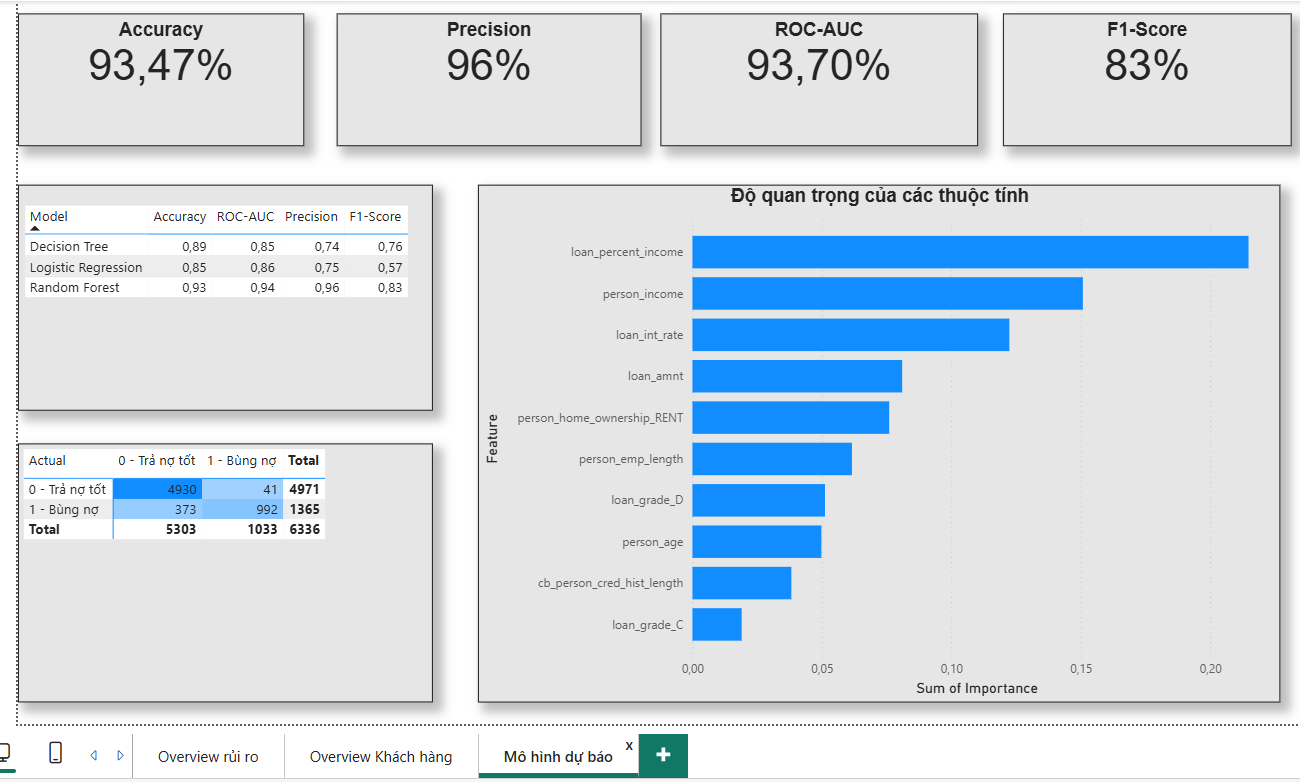

This screenshot's page, from the dashboard's own definition file:
{"tool":"powerbi","page":{"name":" Mô hình dự báo","canvas":[1280,720],"ordinal":2},"visuals":[{"type":"textbox","box":[0,12.4,284.9,131.9],"z":0},{"type":"textbox","box":[639.4,12.4,316,131.9],"z":1},{"type":"textbox","box":[317.2,12.4,303.5,131.9],"z":2},{"type":"textbox","box":[980.2,12.4,287.4,131.9],"z":3},{"type":"tableEx","fields":{"Values":["Compare_3_Model.Model ","Compare_3_Model.Accuracy","Compare_3_Model.ROC-AUC","Compare_3_Model.Precision","Compare_3_Model.F1-Score"]},"box":[0,182.9,413,225.2],"z":4},{"type":"clusteredBarChart","title":"Độ quan trọng của các thuộc tính ","fields":{"Category":["Feature_Importances.Feature"],"Y":["Sum(Feature_Importances.Importance)"]},"box":[457.8,182.9,798.6,515],"z":5},{"type":"pivotTable","fields":{"Rows":["Confusion_Matrix.Actual "],"Columns":["Confusion_Matrix.Predicted"],"Values":["Sum(Confusion_Matrix.Count)"]},"box":[0,440.4,413,257.5],"z":6}]}

Visuals, with their boxes in screenshot pixels (x1, y1, x2, y2):
textbox: 14:12:299:145
textbox: 654:12:970:145
textbox: 331:12:635:145
textbox: 995:12:1283:145
tableEx - Compare_3_Model.Model  x Compare_3_Model.Accuracy: 14:183:427:409
"Độ quan trọng của các thuộc tính " clusteredBarChart: 472:183:1272:699
pivotTable - Confusion_Matrix.Actual  x Confusion_Matrix.Predicted: 14:441:427:699
